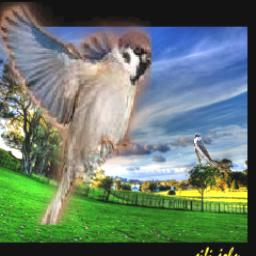Sparrow: (0, 2, 153, 225)
Swallow: (194, 133, 217, 168)
